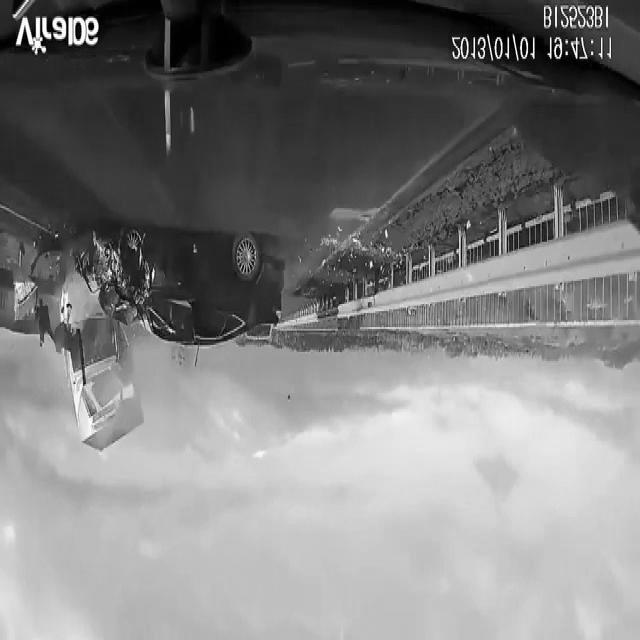severe: (39, 217, 288, 464)
